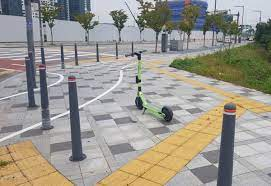guide_blocks: (1, 141, 69, 186), (100, 159, 176, 186), (155, 129, 213, 159), (223, 95, 271, 111), (155, 70, 198, 84), (201, 83, 226, 94)
kick_board: (126, 49, 173, 121)
kick_handler: (125, 49, 147, 59)
kick_neck: (136, 62, 143, 93)
kick_wheel: (162, 106, 174, 120), (134, 97, 142, 108)
